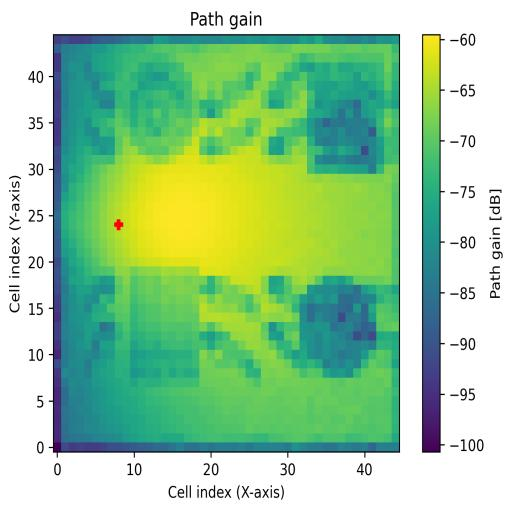Concrete: (307, 63, 384, 174)
Glass: (130, 64, 192, 164)
Metal: (300, 277, 376, 378)
Wood: (130, 265, 199, 387)
